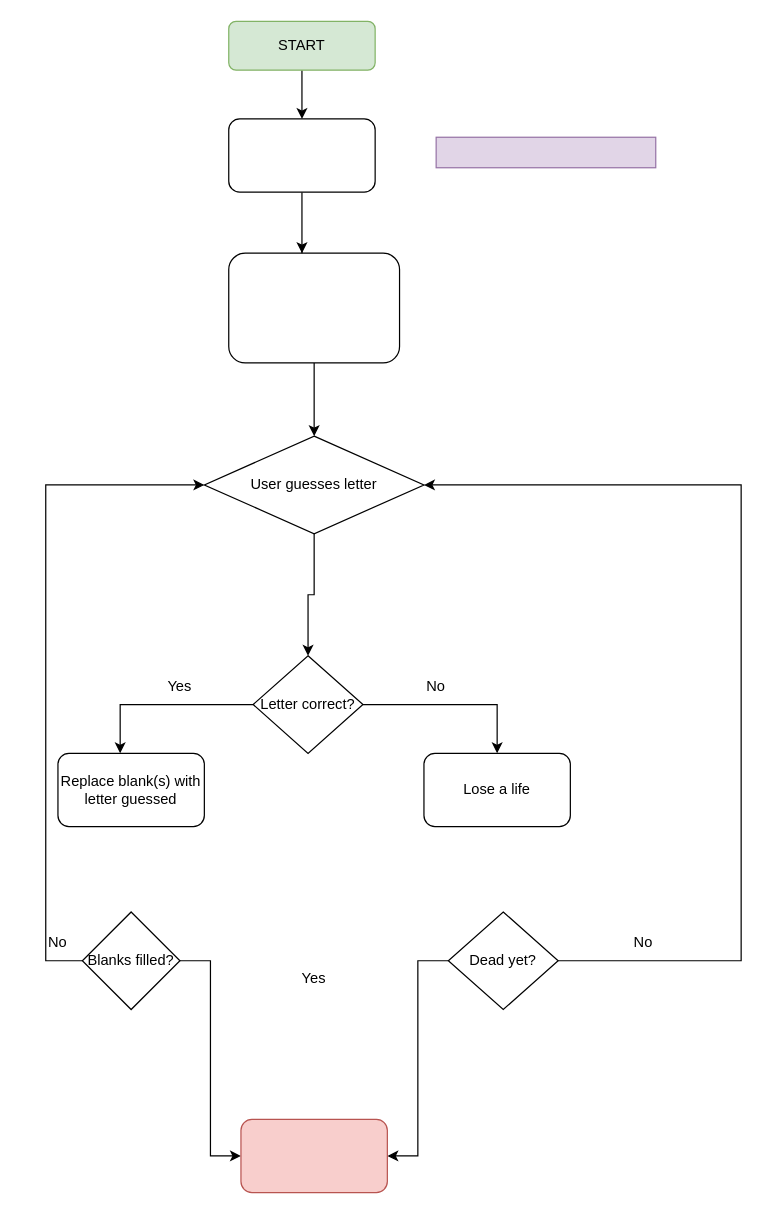
Image size: 772x1214. Some labels were removed from this diagram. The shapes that lost their labels are listed below. From the top down, each one's box as (x1, y1, x2, y2) in pixels, then its label:
(228, 118, 375, 192): Randomly generate word
(435, 136, 656, 168): I did mine from a pre-made list
(228, 252, 400, 363): Generate as many blanks as there are letters in word
(240, 1118, 387, 1193): GAME OVER
